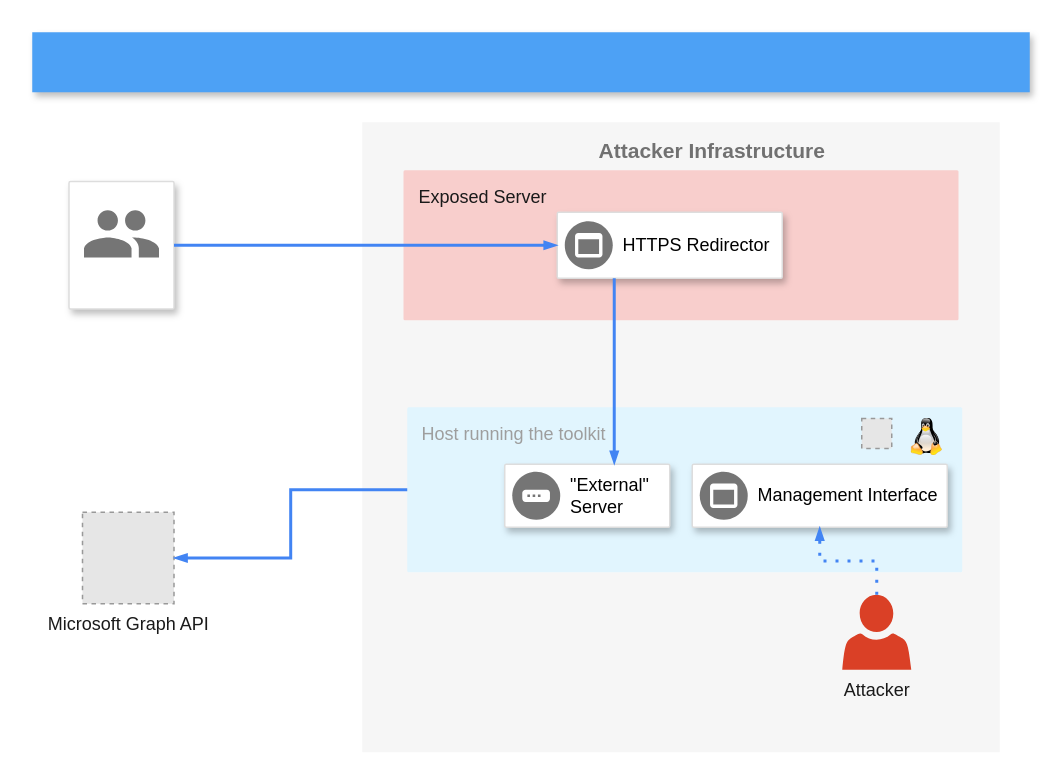
Some shapes in this 1064 by 777 pixel diagram are drawn without their labels. Grey dashed boxes stand in for pictures. The centre of each missing label's shape, as x and y in pixels:
"Architecture o365-attack-toolkit" goes at (x=532, y=64).
"Users" goes at (x=122, y=247).
